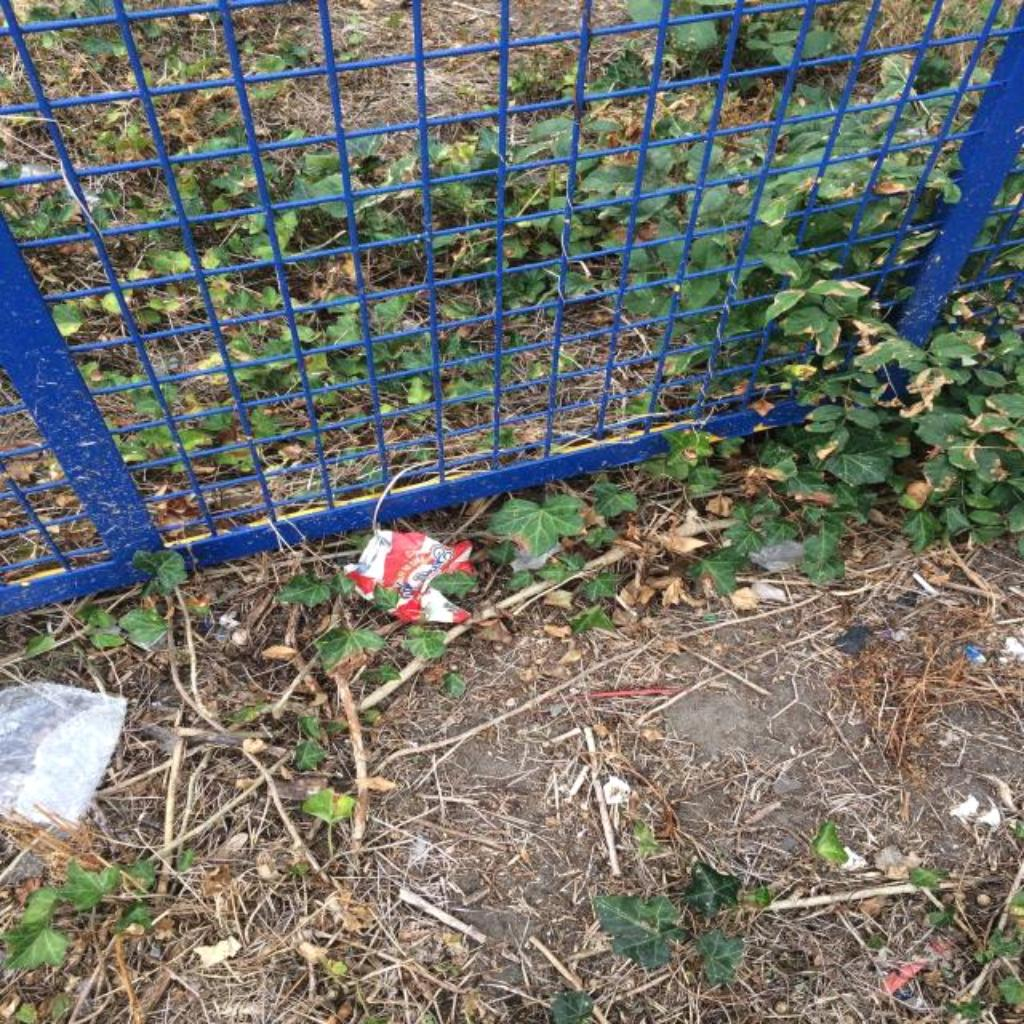garbage: (0, 684, 126, 826), (344, 529, 475, 623)
